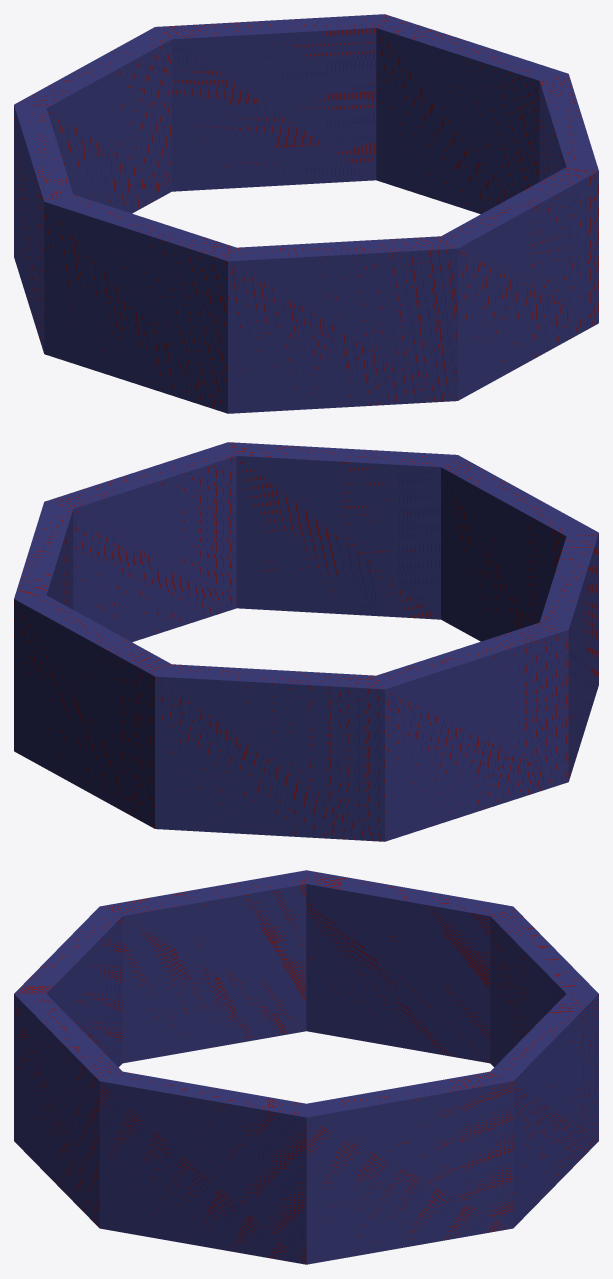
Rendered from tower_middle_001_msh.fbx.
The picture shows the model from 3 angles, top to bottom: view 1: azimuth 30°, elevation 25°; view 2: azimuth 150°, elevation 25°; view 3: azimuth 270°, elevation 25°; orthographic projection. The views are drawn at different scales.
Visible parts, largest first — view 1: tower_middle_001_msh; view 2: tower_middle_001_msh; view 3: tower_middle_001_msh.
Boxes of the visible parts, x1,y1,x2,y2 form: tower_middle_001_msh: (14, 14, 598, 413); tower_middle_001_msh: (14, 442, 598, 841); tower_middle_001_msh: (14, 870, 598, 1264).
Size of the model in its own units: 360 by 100 by 360.
